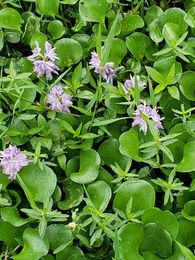water_hyacinth: (1, 1, 195, 259)
